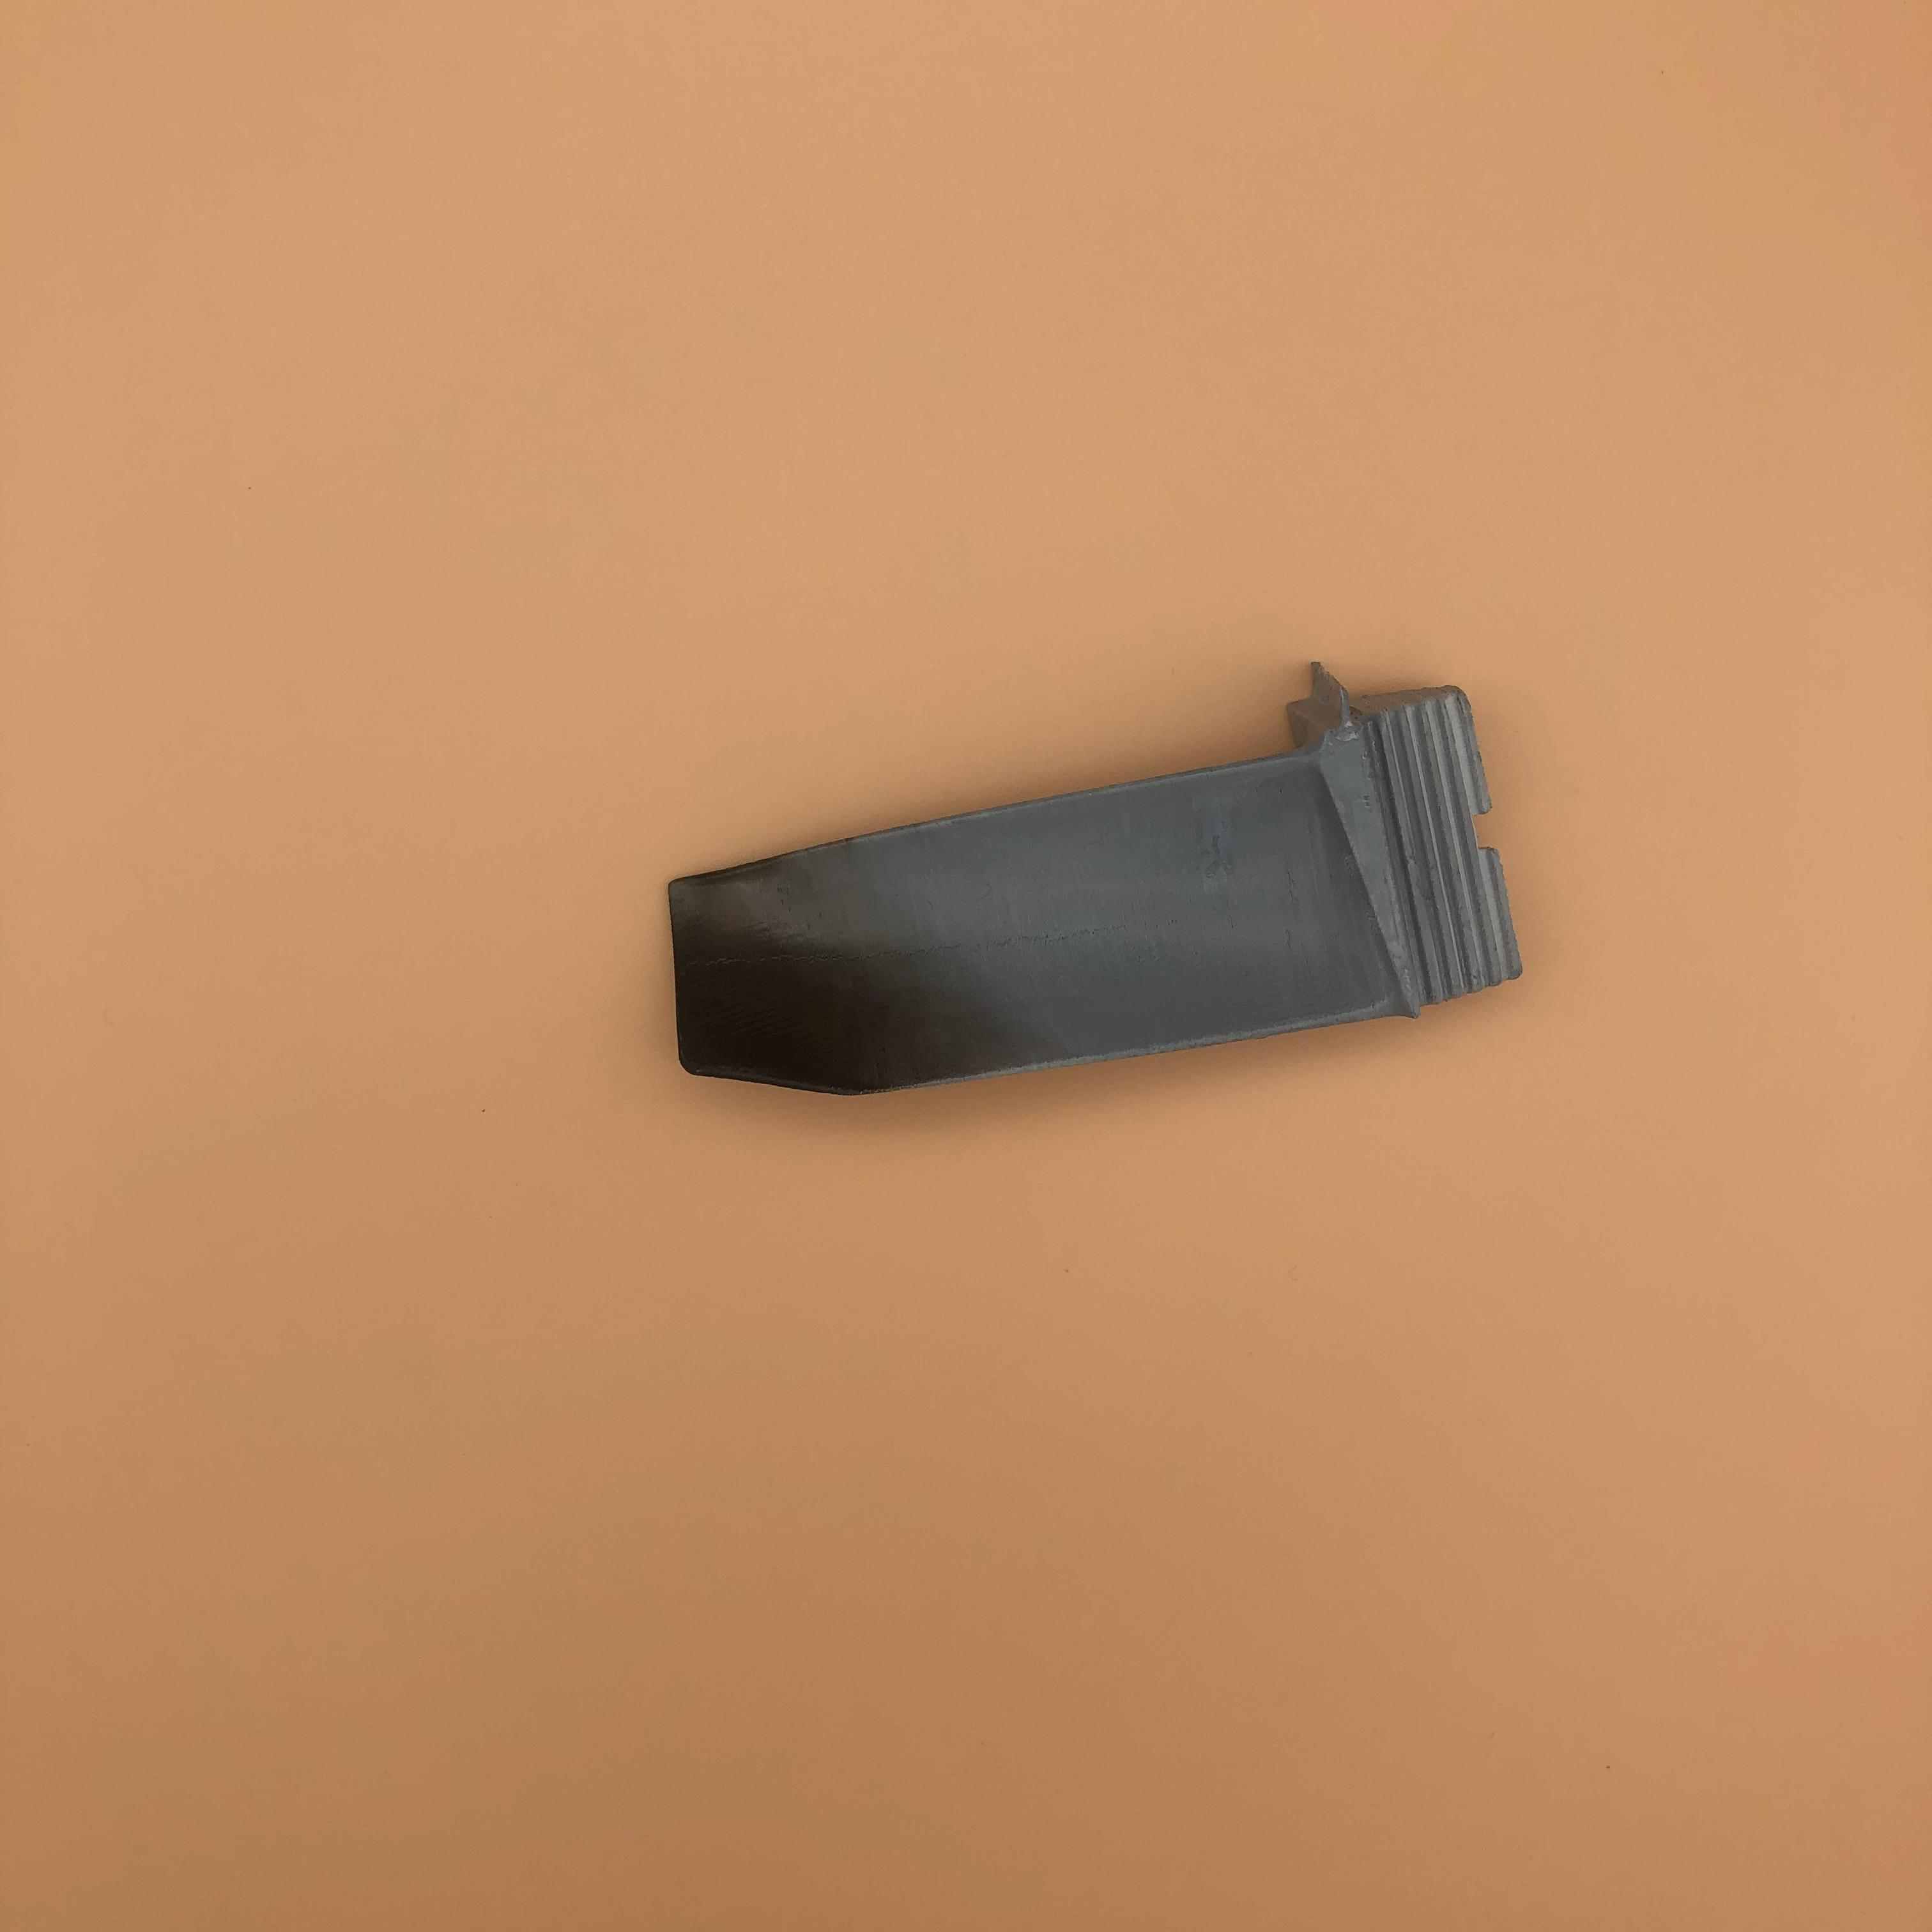ablation: (653, 855, 1023, 1092)
